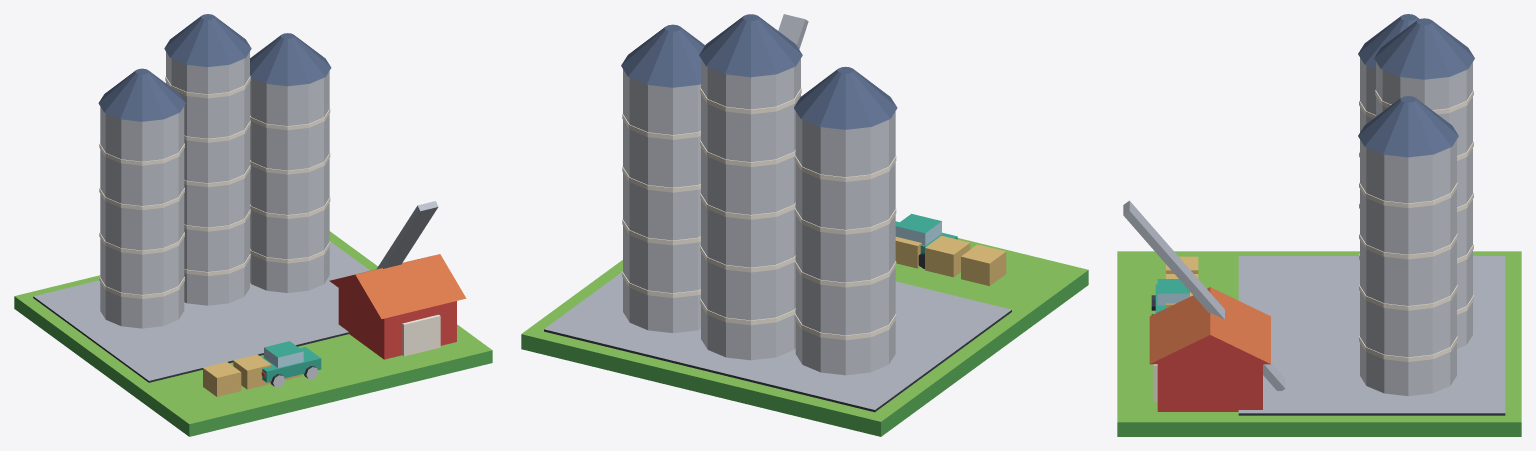
Rendered from industry_silo.glb.
The picture shows the model from 3 angles, left to right: view 1: azimuth 30°, elevation 25°; view 2: azimuth 150°, elevation 25°; view 3: azimuth 270°, elevation 25°; orthographic projection. The views are drawn at different scales.
Visible parts, largest first — view 1: industry_silo; view 2: industry_silo; view 3: industry_silo.
Part boxes in pixels (box(x1,y1,x2,y2)): industry_silo: box(14, 14, 492, 436); industry_silo: box(521, 14, 1088, 436); industry_silo: box(1117, 14, 1521, 436).
Bounding box in the file's own units: 1 × 0.9 × 1.
